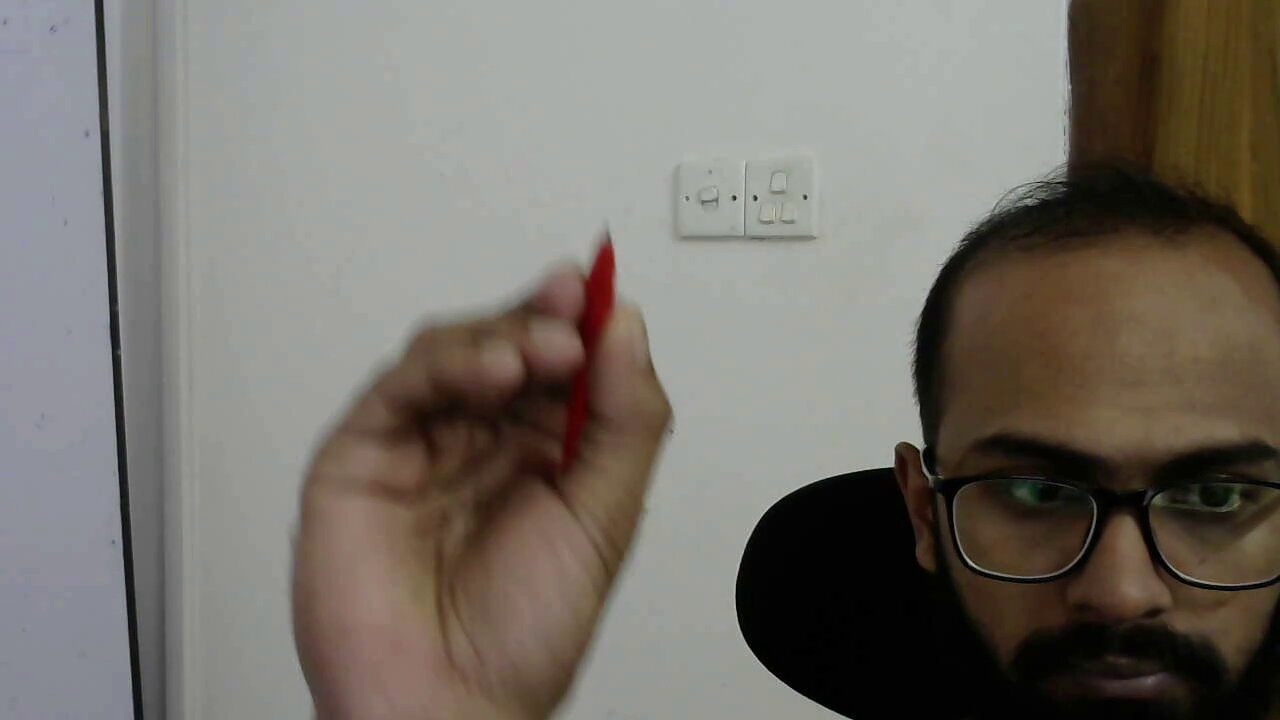pointer: (287, 246, 679, 636)
